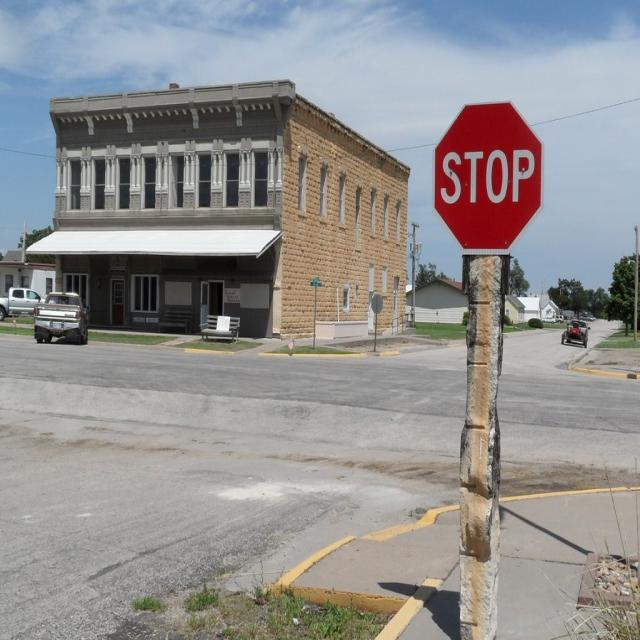Stop-sign: (432, 99, 546, 255)
